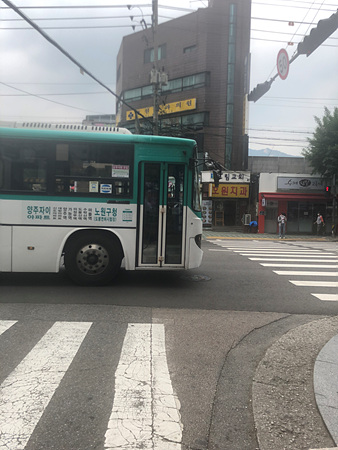entrance: (137, 155, 190, 269)
